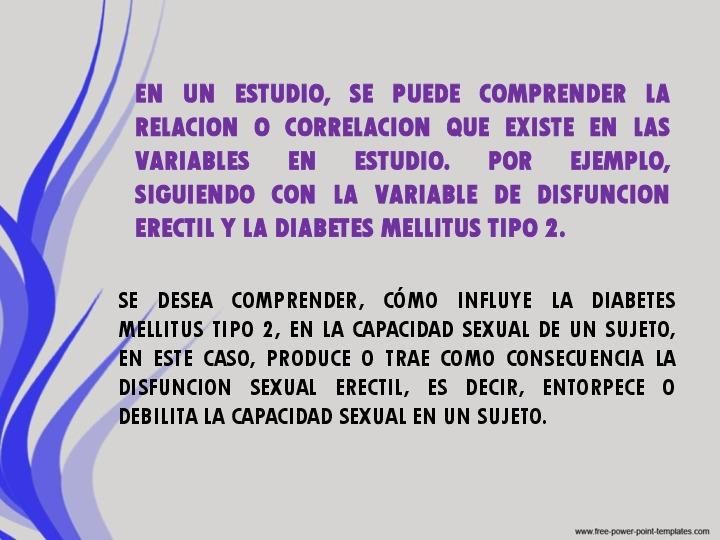paragraph: (89, 48, 705, 456)
